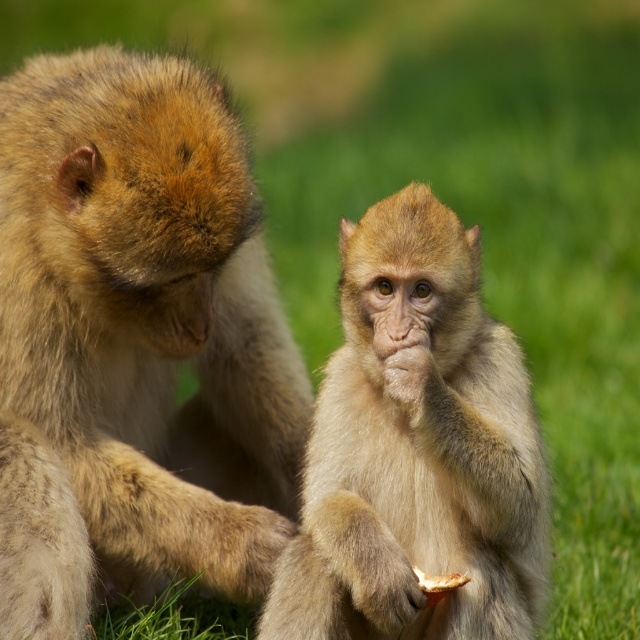Monkey: (0, 42, 313, 640), (255, 184, 554, 640)
